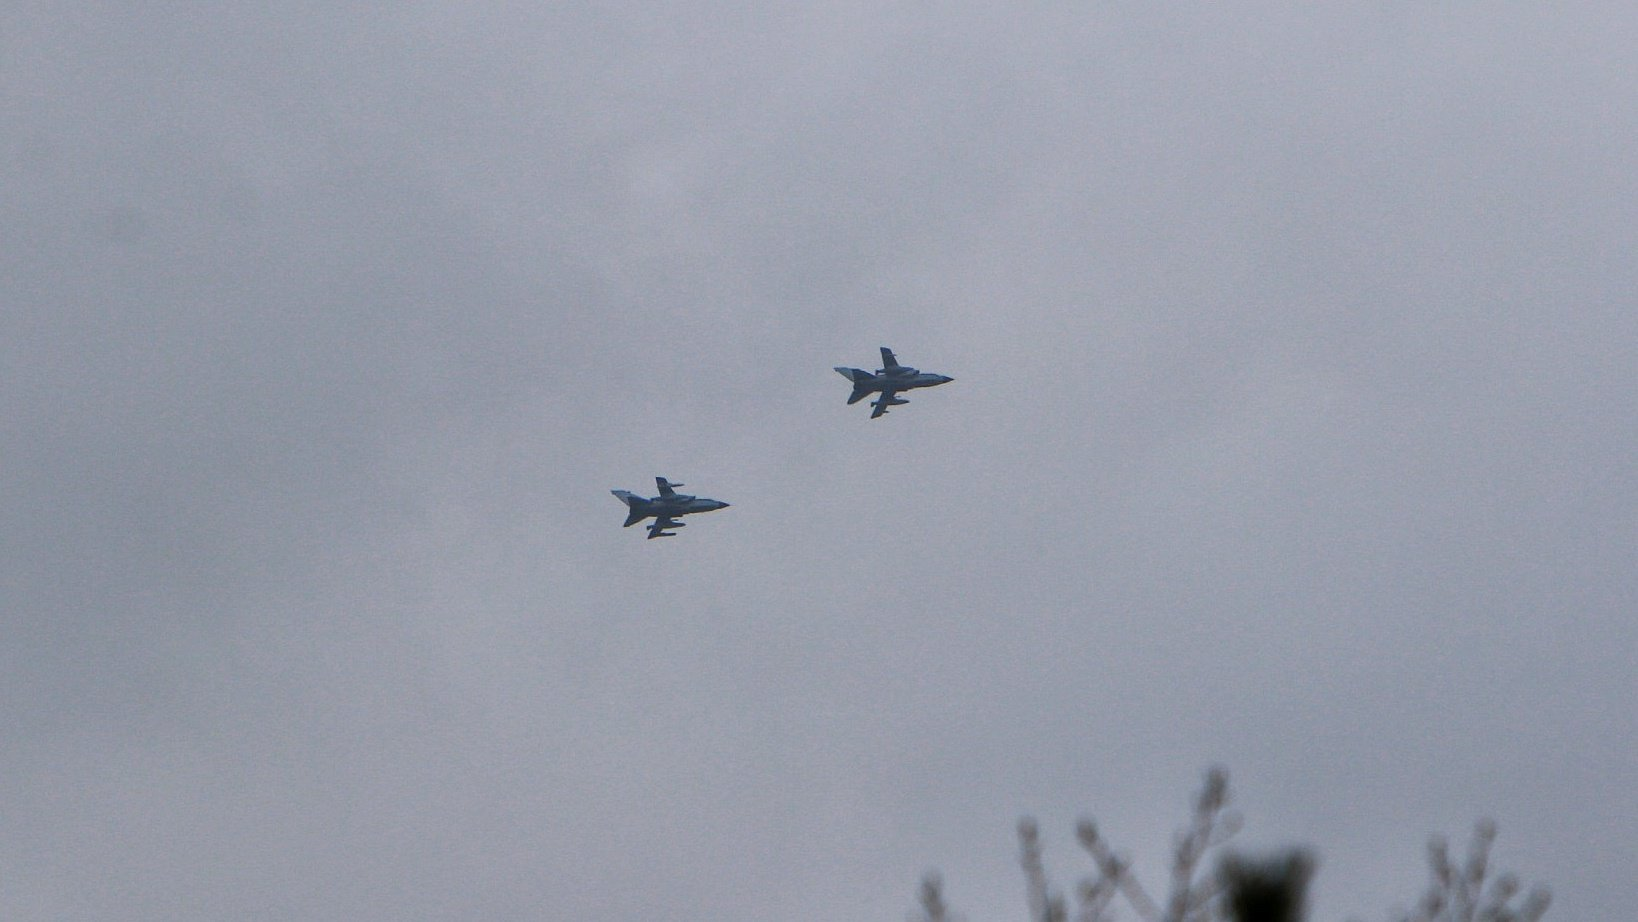Tornado: (832, 346, 958, 421), (607, 476, 737, 540)
